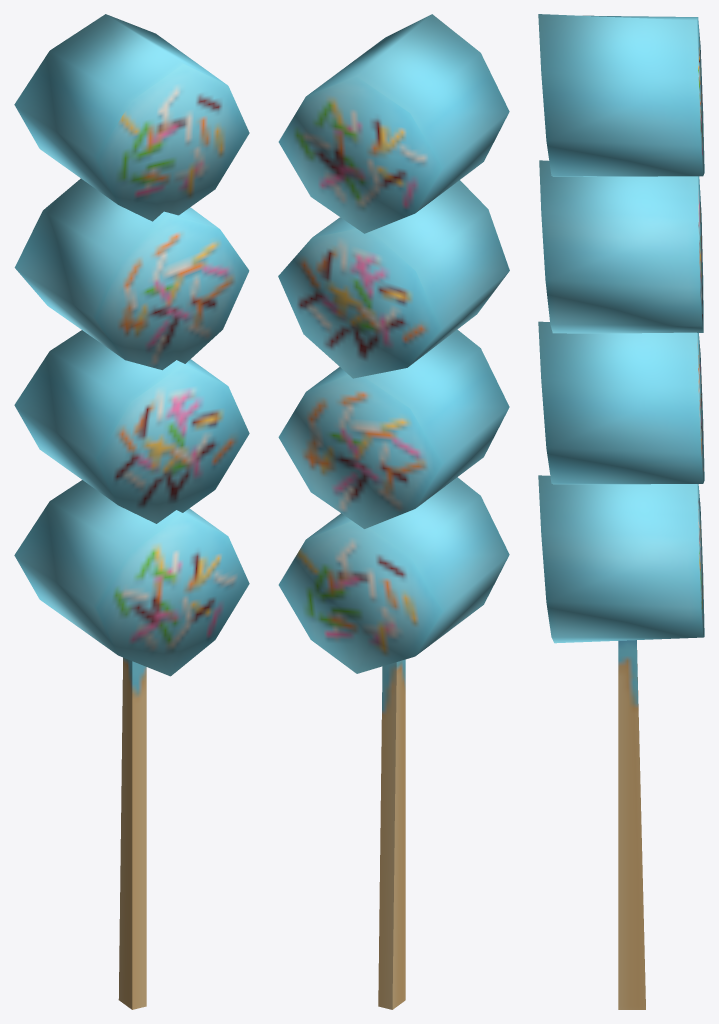
File: jsf_ChocolateBanana_b02_c03.fbx
3 views of the same model, side by side, from view 1: azimuth 30°, elevation 25°; view 2: azimuth 150°, elevation 25°; view 3: azimuth 270°, elevation 25° (orthographic). The views are drawn at different scales.
Parts seen in each view (by area): view 1: jsf_ChocolateBanana_b02_c03; view 2: jsf_ChocolateBanana_b02_c03; view 3: jsf_ChocolateBanana_b02_c03.
Part boxes in pixels (box(x1,y1,x2,y2)): jsf_ChocolateBanana_b02_c03: box(14, 14, 249, 1009); jsf_ChocolateBanana_b02_c03: box(278, 14, 509, 1009); jsf_ChocolateBanana_b02_c03: box(538, 14, 704, 1009).
Bounding box in the file's own units: 4.07 × 22.49 × 3.41.
